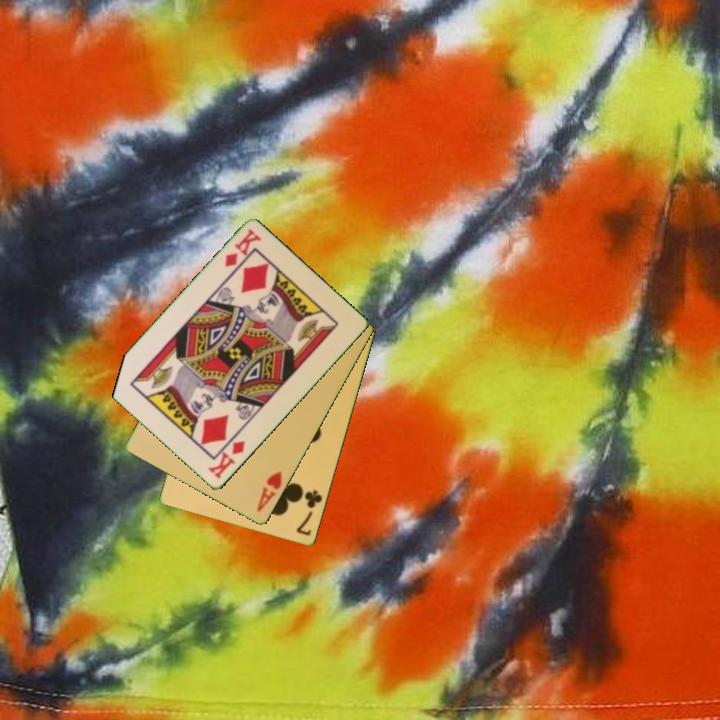7c: (293, 487, 326, 539)
Ah: (253, 467, 285, 515)
Kd: (204, 437, 248, 482), (221, 225, 264, 270)
